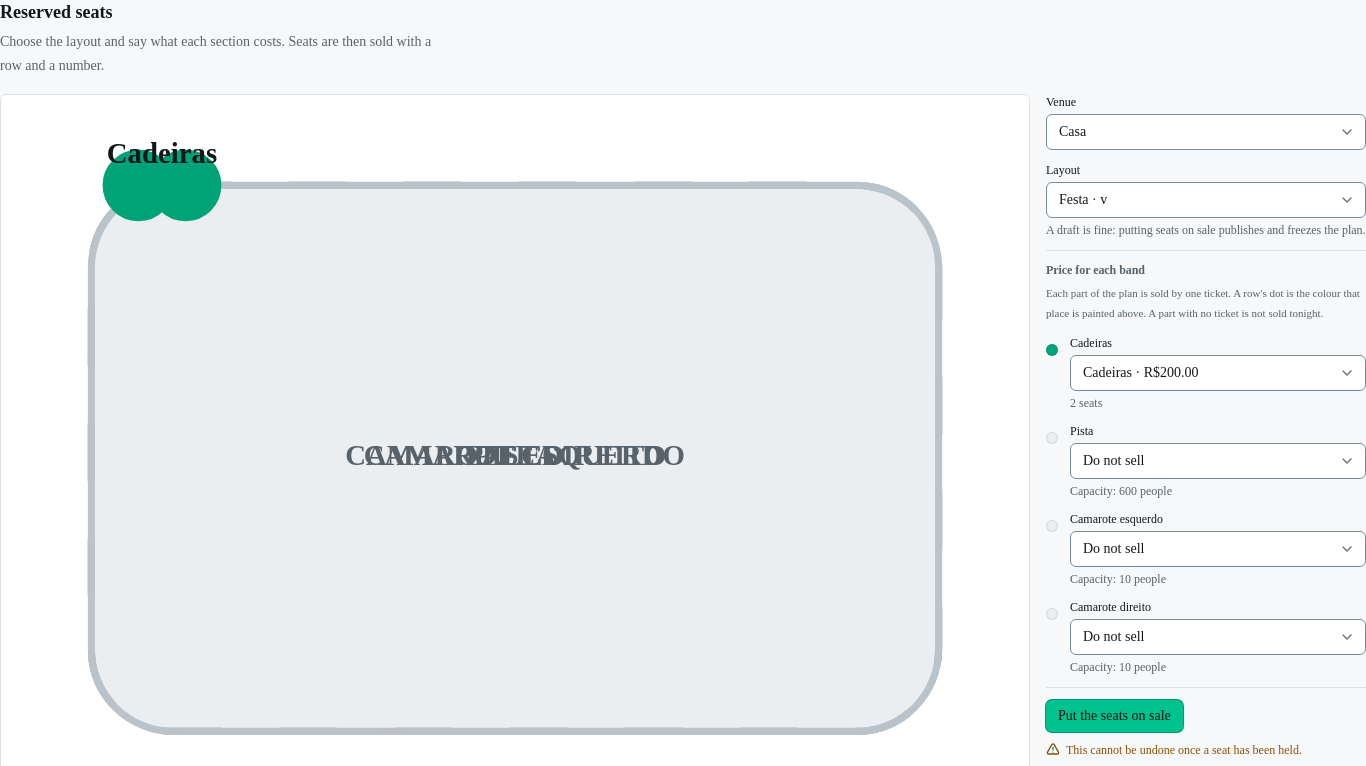
Scenario: pricing the parts of a room that have no numbered chairs › lets an oversized lote be chosen, says what is wrong, and blocks the one-way commit
Select "Camarote Esquerdo · R$200.00" in the dropdown labelled "Pista" at [1218, 461], box [1070,443,1365,479]
(page scrolled)
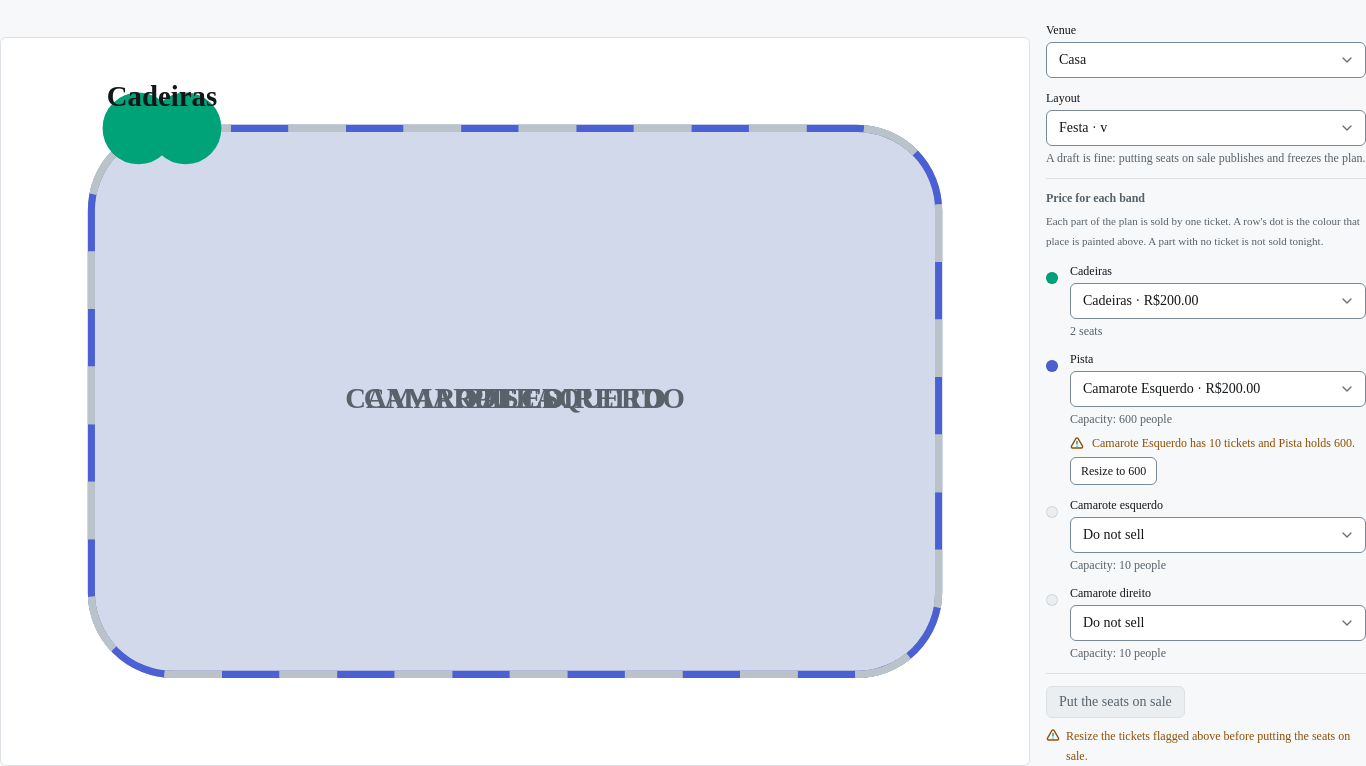
Expected: the text "Camarote Esquerdo has 10 tickets and Pista holds 600" is shown, [1092,436,1355,450]
Expected: the button "Put the seats on sale" is disabled, [1046,686,1185,718]
Expected: the text "Resize the tickets flagged above" is shown, [1066,729,1350,763]
